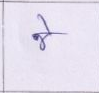e_matra: (37, 15, 54, 32)
